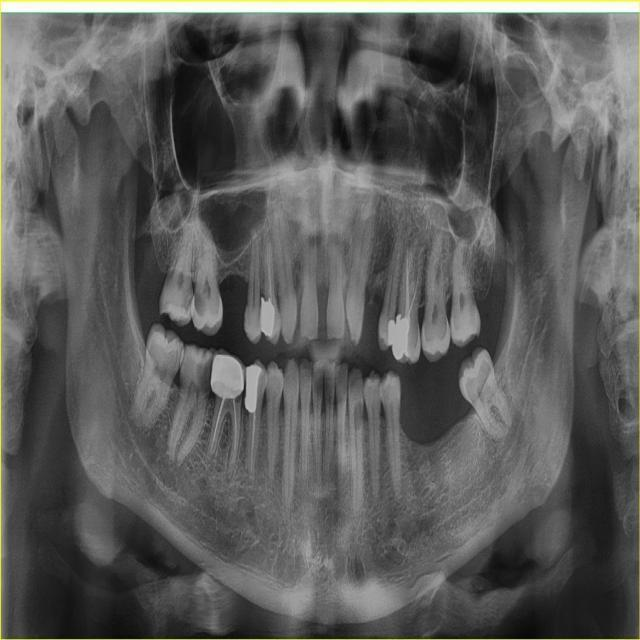Caries: (195, 351, 212, 403), (192, 283, 205, 322), (181, 281, 194, 317), (353, 400, 363, 432), (235, 392, 242, 404)
Crown: (210, 351, 245, 402)
Filling: (245, 363, 261, 413), (392, 315, 410, 359), (259, 297, 274, 336), (387, 318, 395, 346)
Missing teeth: (399, 382, 477, 443), (221, 274, 249, 342), (362, 289, 382, 347)
Root Canal Treatment: (405, 249, 420, 320), (209, 397, 226, 456), (251, 412, 256, 472), (267, 243, 272, 298), (233, 398, 237, 451)
